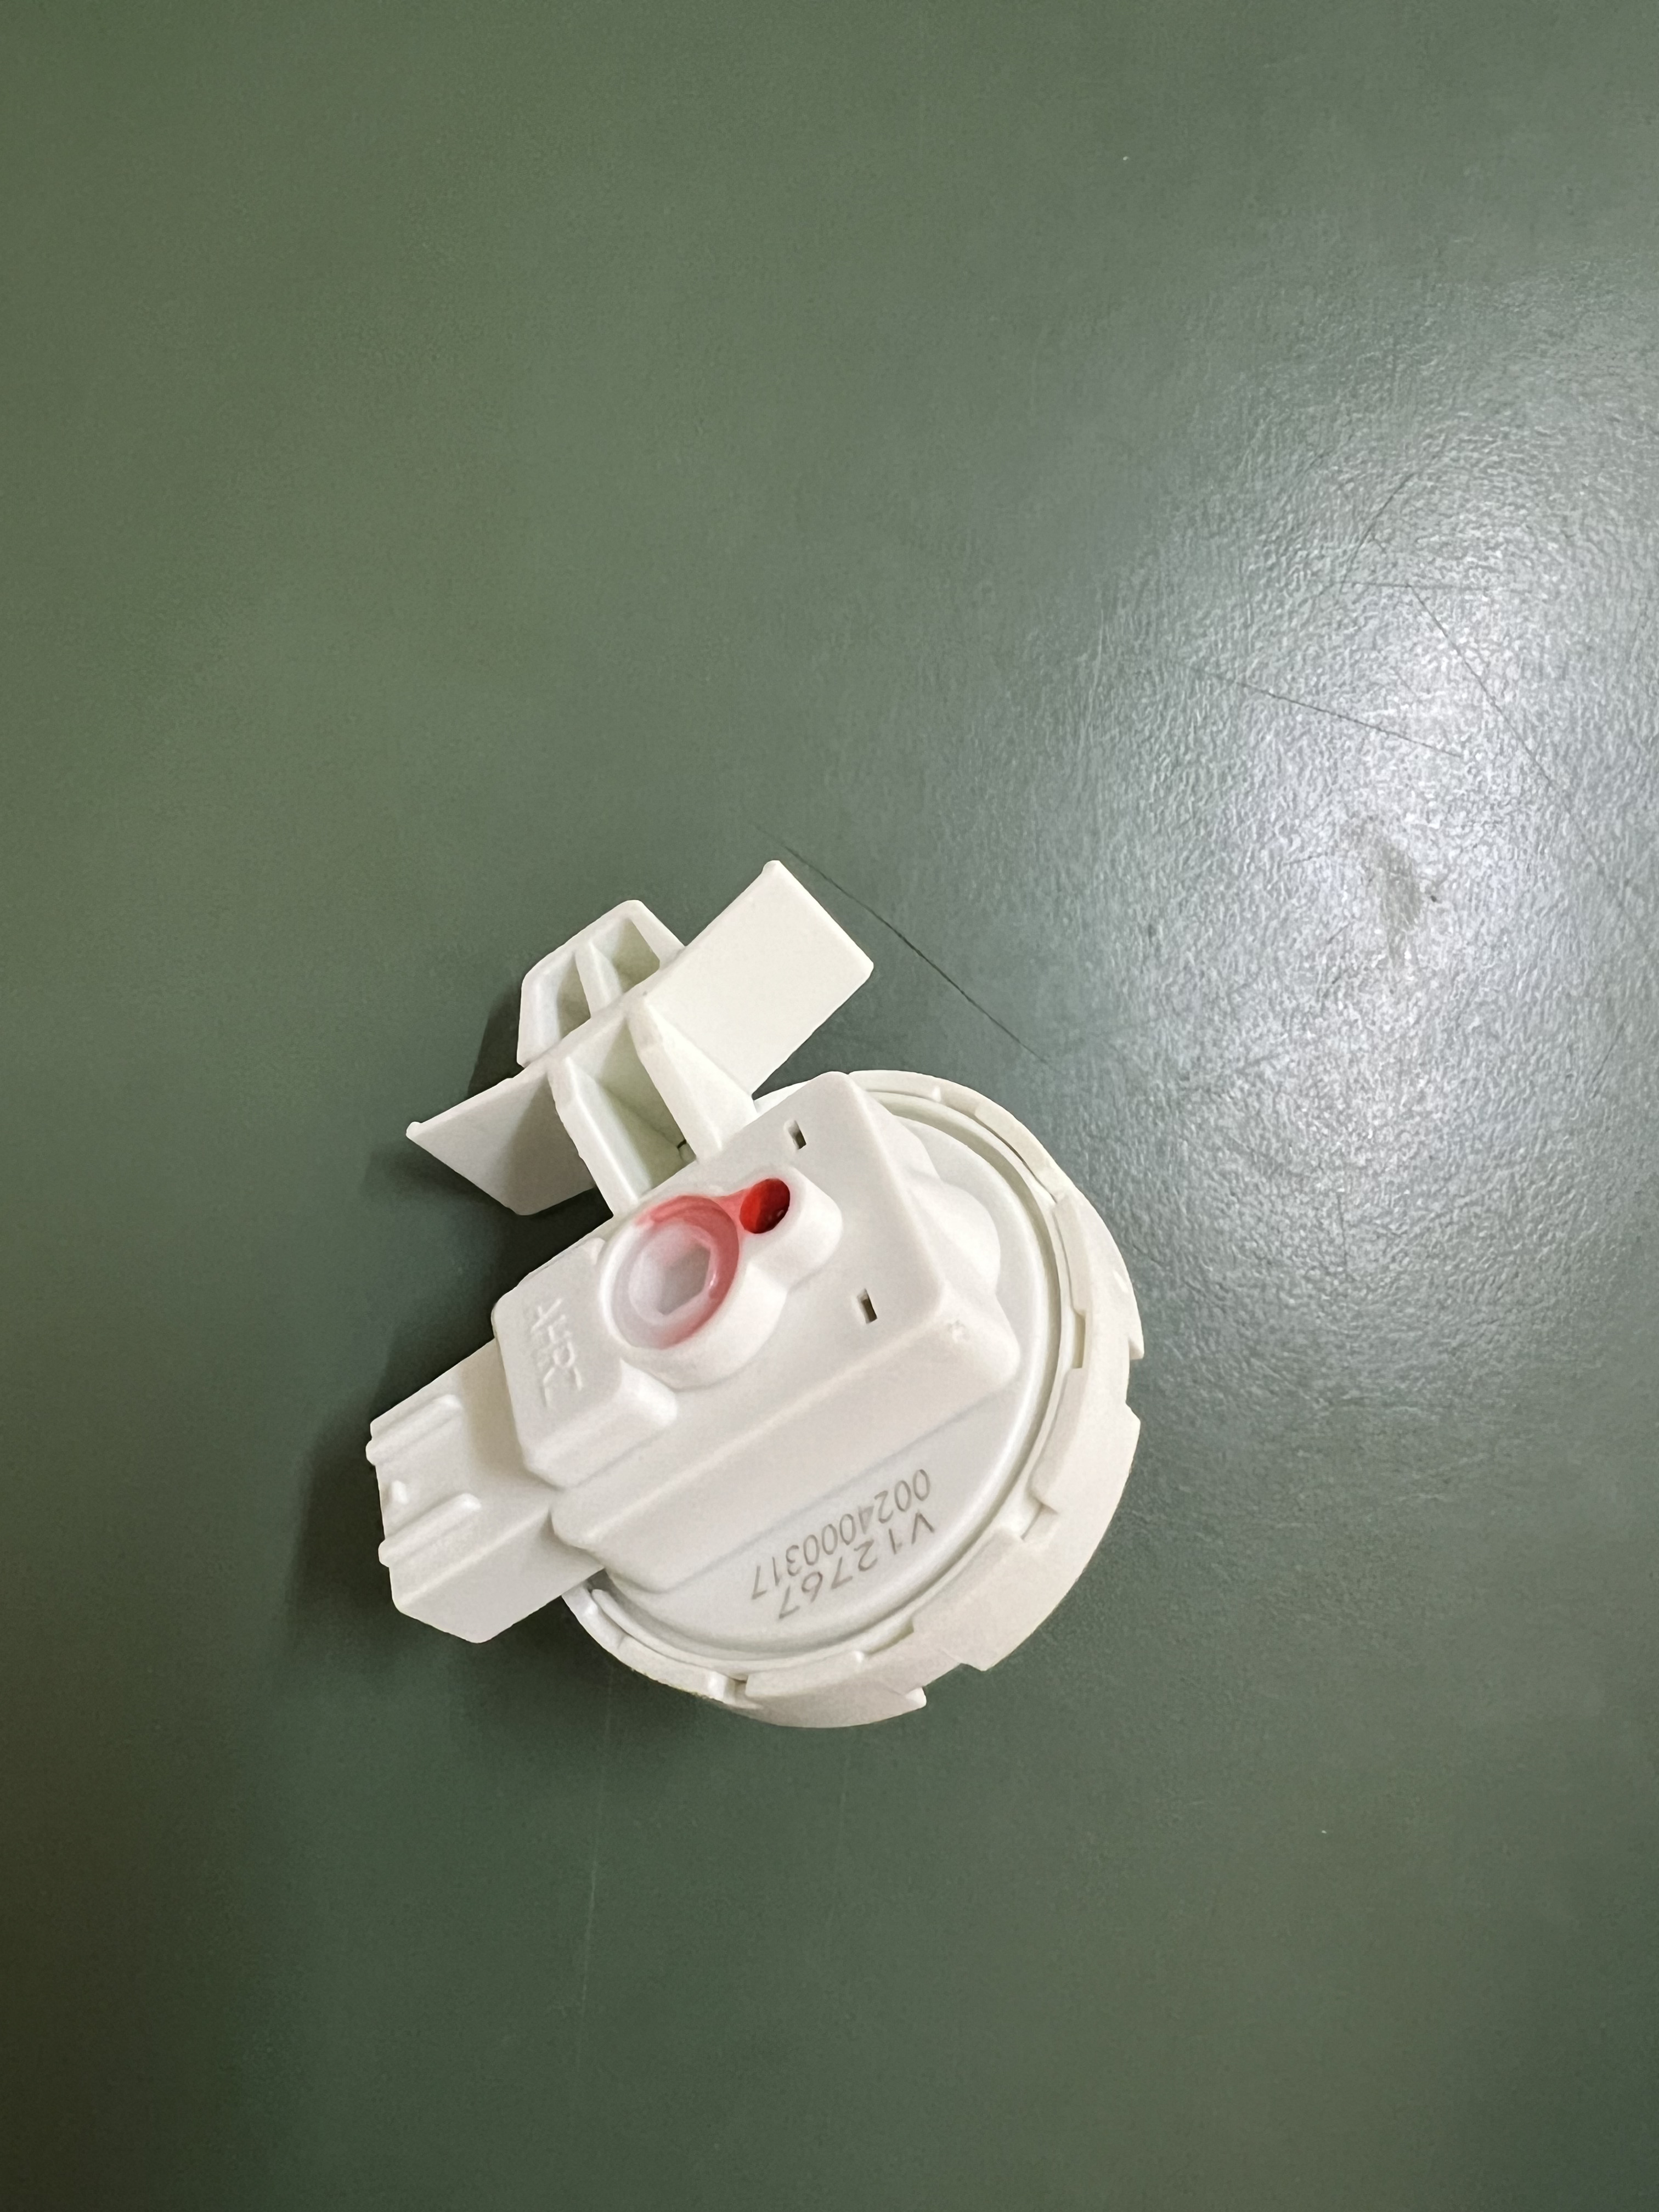pressure_switch_2: (351, 853, 1151, 1746)
